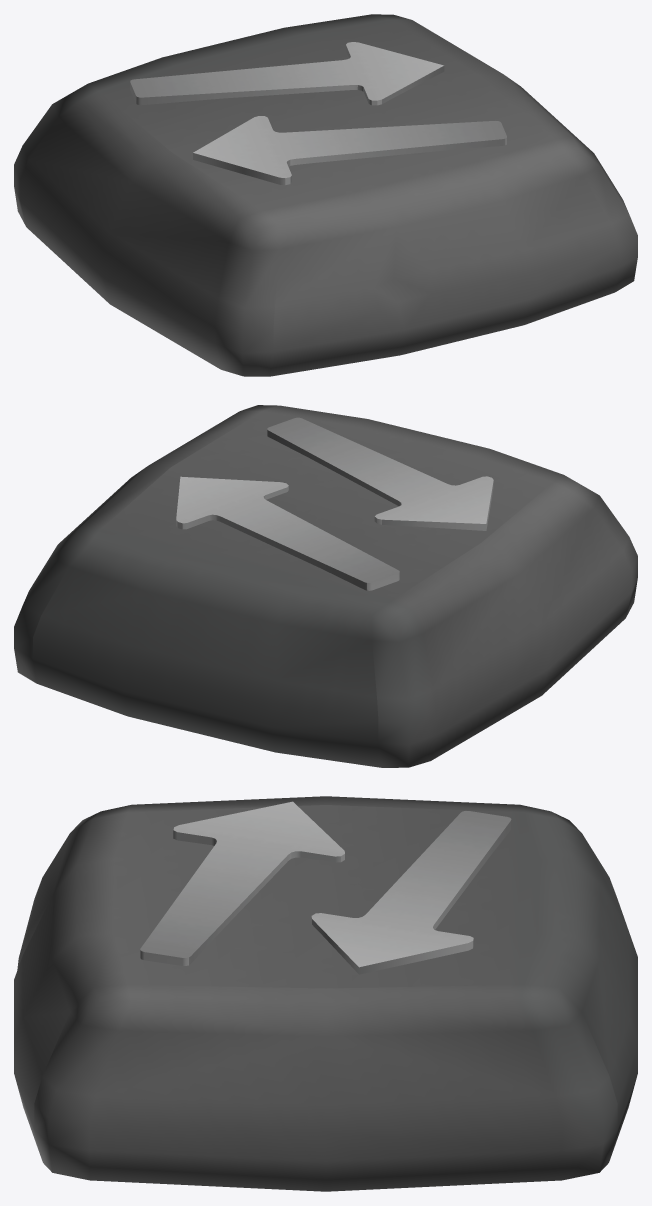
The model's file is Block_Sort.fbx.
3 views of the same model, one above another, from view 1: azimuth 30°, elevation 25°; view 2: azimuth 150°, elevation 25°; view 3: azimuth 270°, elevation 25° (orthographic). The views are drawn at different scales.
Visible parts, largest first — view 1: block_stone1_3_half_plinth_LOD2Shape; view 2: block_stone1_3_half_plinth_LOD2Shape; view 3: block_stone1_3_half_plinth_LOD2Shape.
Part boxes in pixels (x1,y1,x2,y2): block_stone1_3_half_plinth_LOD2Shape: (14,14,637,376); block_stone1_3_half_plinth_LOD2Shape: (14,405,637,767); block_stone1_3_half_plinth_LOD2Shape: (14,796,637,1191).
Size of the model in its own units: 105 by 34.95 by 106.
1 material, 1 textured.
